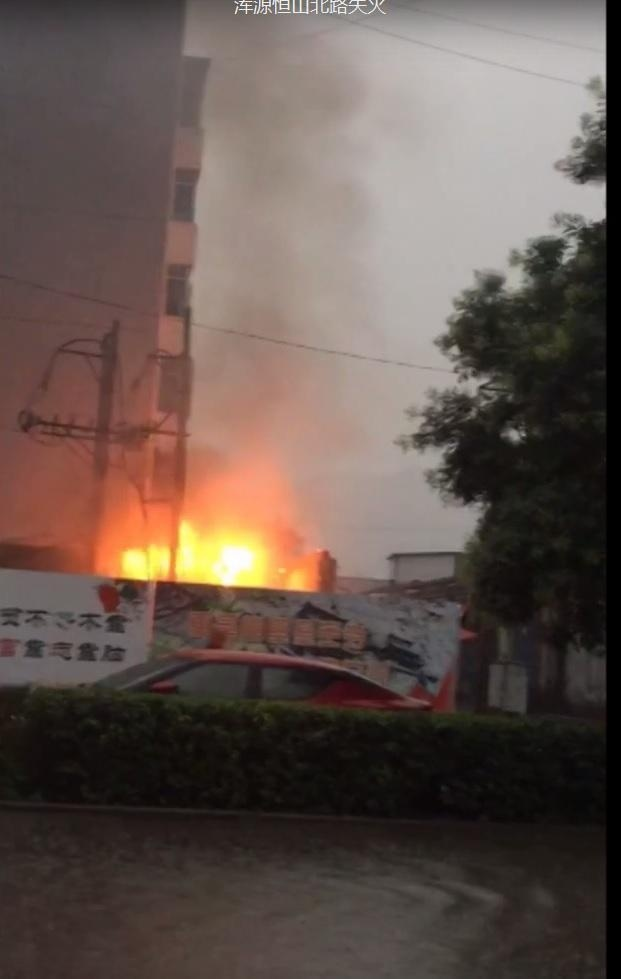fire: (113, 512, 322, 591)
